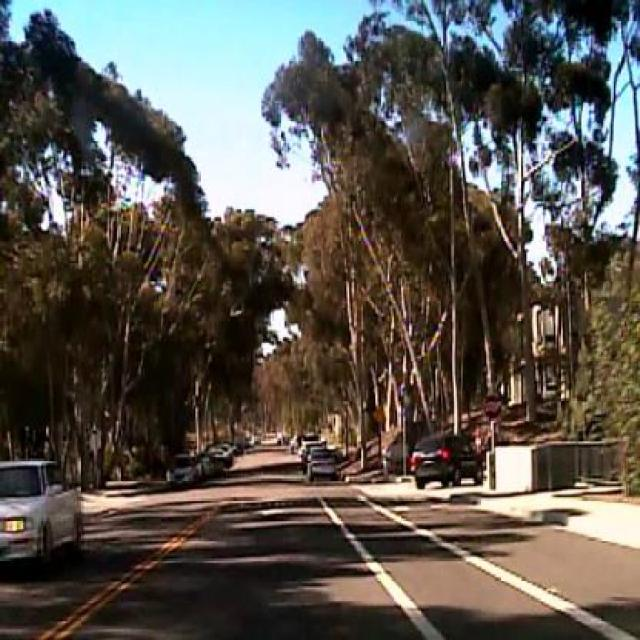stop: (483, 394, 502, 420)
